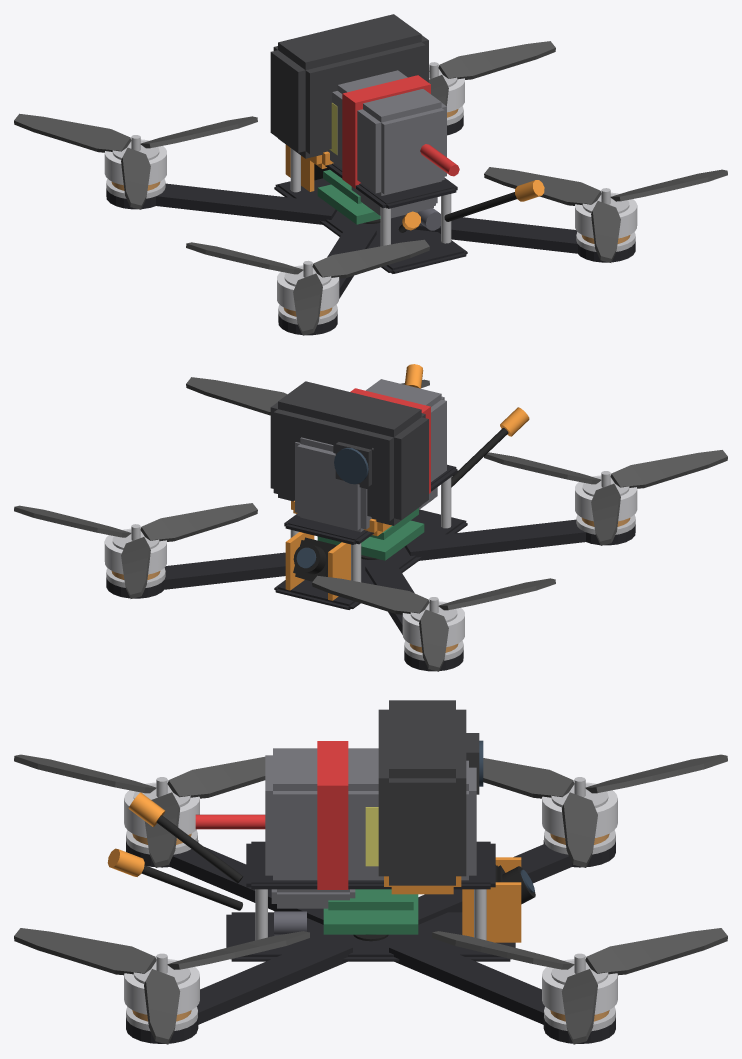
File: freestyle5hd.glb
3 renders of one model, top to bottom at view 1: azimuth 30°, elevation 25°; view 2: azimuth 150°, elevation 25°; view 3: azimuth 270°, elevation 25°, orthographic. The views are drawn at different scales.
Visible parts, largest first — view 1: body, prop_FL, prop_RL, prop_RR, prop_FR, cam_mount; view 2: body, prop_FL, prop_FR, prop_RL, prop_RR, cam_mount, fpv_cam; view 3: body, prop_FR, prop_RR, prop_FL, prop_RL, cam_mount, fpv_cam.
Part boxes in pixels (x1=…): body: x1=104, y1=14, x2=637, y2=335; prop_FL: x1=14, y1=113, x2=380, y2=223; prop_RL: x1=186, y1=239, x2=429, y2=335; prop_RR: x1=484, y1=167, x2=727, y2=262; prop_FR: x1=429, y1=41, x2=555, y2=105; cam_mount: x1=285, y1=144, x2=314, y2=191; body: x1=104, y1=364, x2=637, y2=671; prop_FL: x1=312, y1=555, x2=555, y2=671; prop_FR: x1=14, y1=503, x2=257, y2=598; prop_RL: x1=484, y1=450, x2=727, y2=545; prop_RR: x1=186, y1=377, x2=429, y2=415; cam_mount: x1=285, y1=532, x2=350, y2=600; fpv_cam: x1=293, y1=537, x2=336, y2=581; body: x1=107, y1=700, x2=617, y2=1043; prop_FR: x1=432, y1=928, x2=727, y2=1044; prop_RR: x1=14, y1=928, x2=309, y2=1044; prop_FL: x1=353, y1=754, x2=727, y2=941; prop_RL: x1=14, y1=754, x2=265, y2=867; cam_mount: x1=462, y1=857, x2=521, y2=942; fpv_cam: x1=495, y1=865, x2=535, y2=904.
Size of the model in its own units: 0.2614 by 0.092 by 0.2768.
